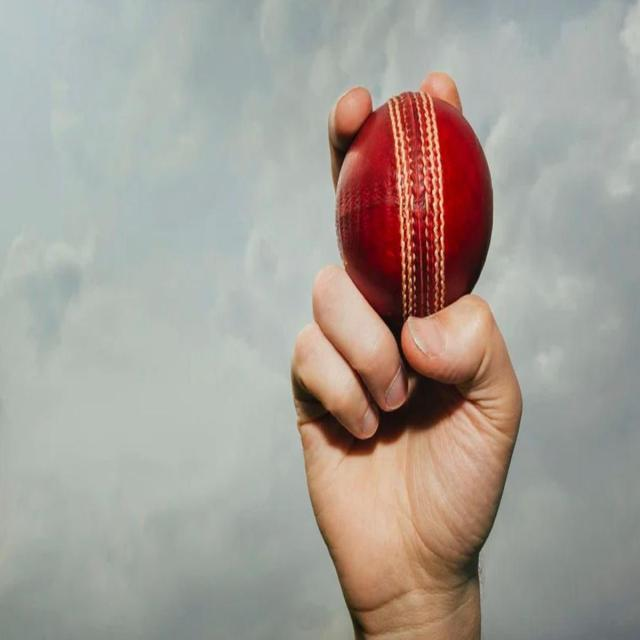ball: (332, 90, 496, 313)
